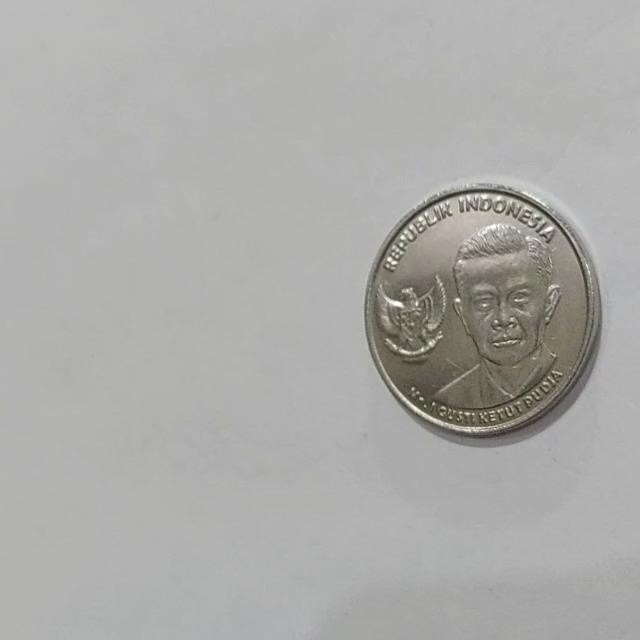Rp100: (364, 180, 601, 440), (427, 220, 565, 412)
